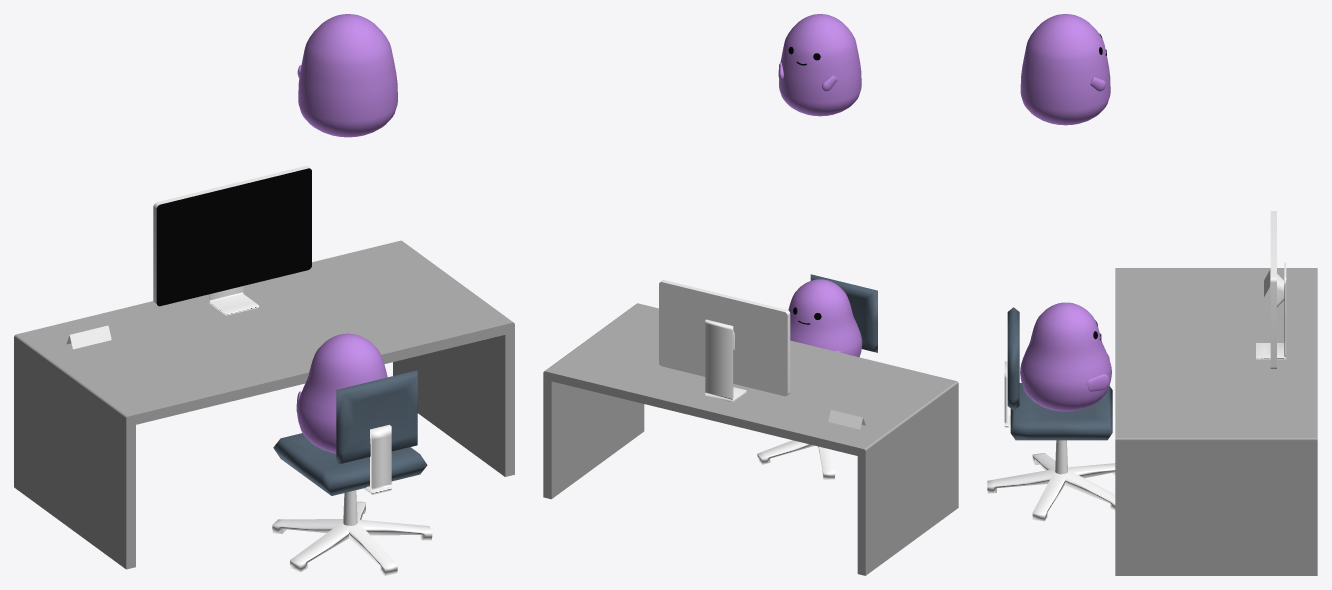
The model's file is studyv2.glb.
3 renders of one model, left to right at view 1: azimuth 30°, elevation 25°; view 2: azimuth 150°, elevation 25°; view 3: azimuth 270°, elevation 25°, orthographic. The views are drawn at different scales.
Parts seen in each view (by area): view 1: Desk, Cube.001, Sphere, Chair.001, Chair, Sphere.009, Cube, Nametag; view 2: Desk, Cube.001, Sphere, Sphere.009, Cube, Chair.001, Chair; view 3: Desk, Sphere, Sphere.009, Chair.001, Chair, Cube.001, Cube.
Part boxes in pixels (left/top/right/bottom): Desk: left=14, top=240, right=514, bottom=569; Cube.001: left=153, top=166, right=311, bottom=306; Sphere: left=298, top=14, right=397, bottom=137; Chair.001: left=273, top=370, right=427, bottom=495; Chair: left=272, top=424, right=432, bottom=575; Sphere.009: left=297, top=333, right=387, bottom=453; Cube: left=209, top=286, right=258, bottom=315; Nametag: left=66, top=325, right=111, bottom=349; Desk: left=543, top=303, right=958, bottom=575; Cube.001: left=659, top=280, right=790, bottom=396; Sphere: left=779, top=14, right=861, bottom=116; Sphere.009: left=788, top=279, right=862, bottom=357; Cube: left=705, top=319, right=746, bottom=402; Chair.001: left=810, top=274, right=877, bottom=352; Chair: left=757, top=440, right=835, bottom=479; Desk: left=1115, top=268, right=1317, bottom=575; Sphere: left=1020, top=14, right=1110, bottom=125; Sphere.009: left=1020, top=302, right=1111, bottom=411; Chair.001: left=1007, top=307, right=1112, bottom=440; Chair: left=987, top=361, right=1115, bottom=521; Cube.001: left=1270, top=211, right=1276, bottom=369; Cube: left=1256, top=262, right=1286, bottom=359.
Size of what is drawn, in the model's own units: 2 by 2.58 by 1.63.
